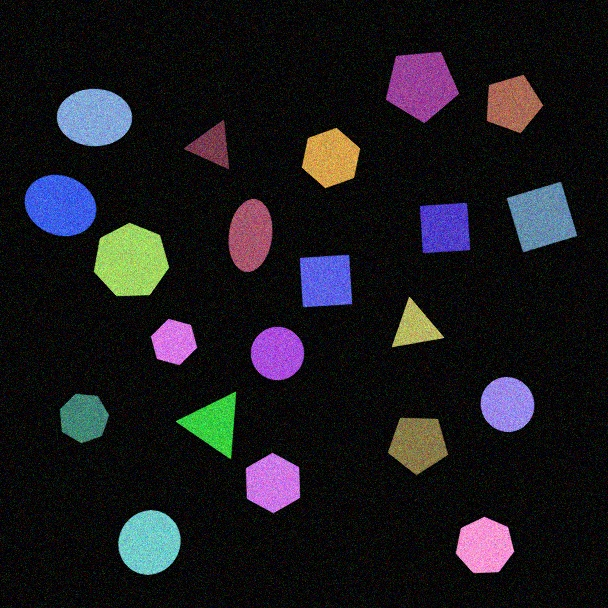Circulo: (118, 509, 181, 576), (480, 376, 535, 433), (250, 326, 305, 381)
Elipse: (24, 174, 97, 237), (56, 88, 133, 147), (228, 198, 273, 273)
Heptagono: (93, 222, 170, 297), (455, 516, 515, 574), (59, 393, 110, 444)
Hexagono: (301, 127, 361, 189), (245, 452, 301, 514), (150, 318, 198, 366)
Pentagono: (385, 51, 460, 124), (387, 417, 449, 476), (486, 74, 544, 134)
Quadrado: (506, 181, 578, 253), (299, 254, 353, 308), (419, 202, 471, 254)
Triangulo: (176, 391, 237, 460), (391, 297, 445, 348), (184, 119, 230, 170)
